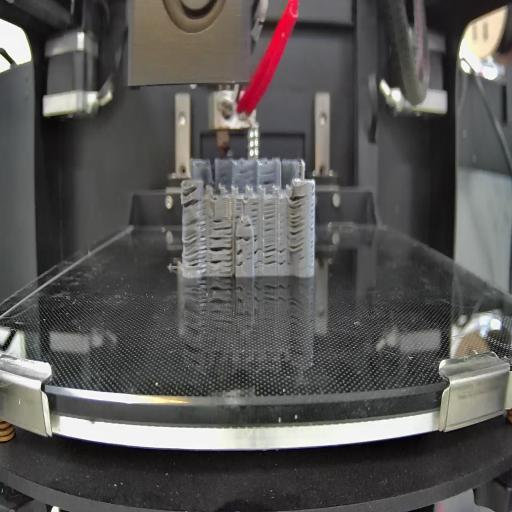cracks: (182, 218, 206, 270), (288, 193, 305, 260), (208, 236, 233, 268), (179, 189, 200, 208), (264, 200, 275, 232), (262, 244, 276, 268), (212, 217, 232, 231), (278, 246, 287, 268), (252, 201, 259, 228), (254, 234, 259, 268), (234, 200, 242, 221), (236, 249, 244, 268), (237, 232, 252, 242), (262, 180, 276, 186)
